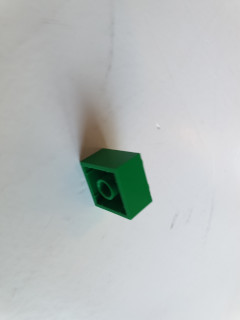2x2 green: (76, 147, 156, 223)
